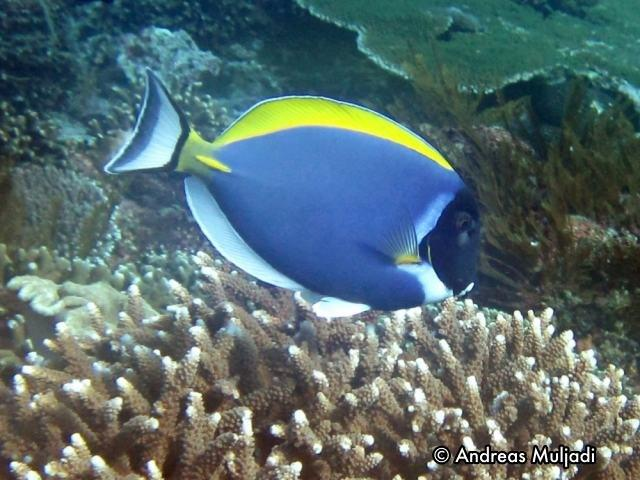Mulut: (436, 256, 488, 322)
Sirip Anal: (178, 171, 312, 297)
Sirip Dada: (361, 186, 434, 280)
Sirip Ekor: (89, 59, 207, 184)
Sirip Perut: (301, 283, 391, 341)
Sirip Punggung: (206, 86, 464, 176)
